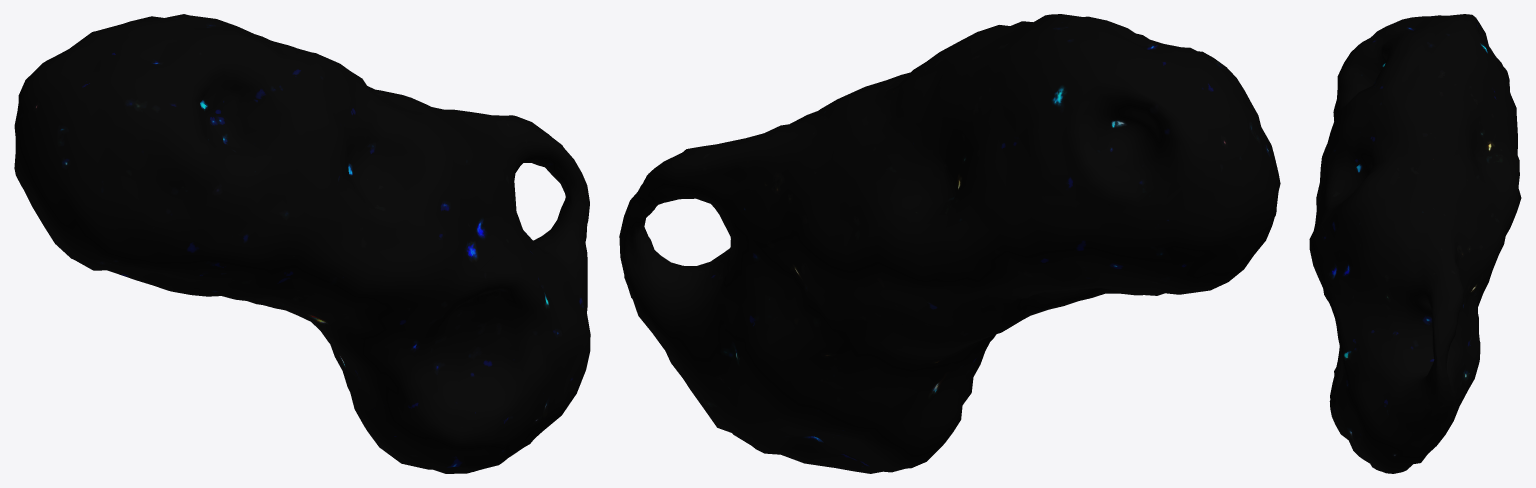
File: asteroid3.obj
3 renders of one model, left to right at view 1: azimuth 30°, elevation 25°; view 2: azimuth 150°, elevation 25°; view 3: azimuth 270°, elevation 25°, orthographic. The views are drawn at different scales.
Parts seen in each view (by area): view 1: Group57342; view 2: Group57342; view 3: Group57342.
Boxes of the visible parts, x1,y1,x2,y2 form: Group57342: [14, 14, 590, 473]; Group57342: [619, 14, 1280, 473]; Group57342: [1309, 14, 1521, 473].
Bounding box in the file's own units: 2.48 × 2 × 1.13.
1 material, 1 textured.
